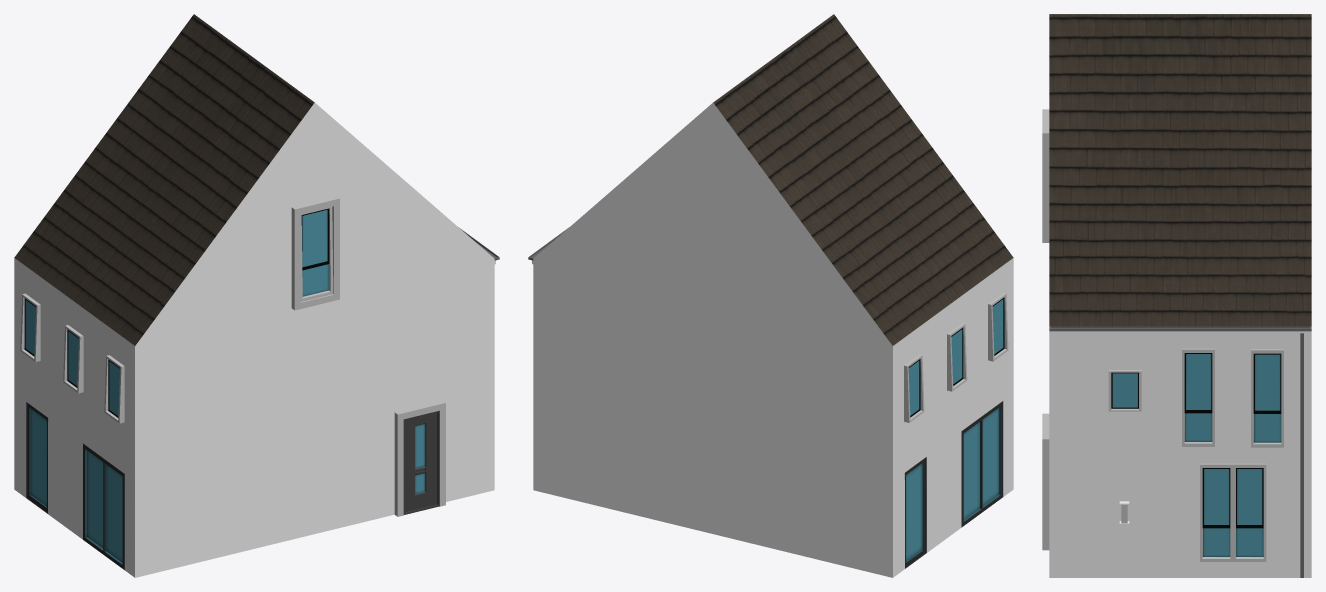
File: Woning_39723_B3Z1.fbx
The picture shows the model from 3 angles, left to right: view 1: azimuth 30°, elevation 25°; view 2: azimuth 150°, elevation 25°; view 3: azimuth 270°, elevation 25°; orthographic projection. The views are drawn at different scales.
Parts seen in each view (by area): view 1: Woning_39723_B3Z1; view 2: Woning_39723_B3Z1; view 3: Woning_39723_B3Z1.
Part boxes in pixels (x1,y1,x2,y2): Woning_39723_B3Z1: (14, 14, 499, 577); Woning_39723_B3Z1: (528, 14, 1013, 577); Woning_39723_B3Z1: (1042, 14, 1311, 577).
Size of the model in its own units: 9.71 by 10.7 by 5.57.
1 material, 1 textured.
